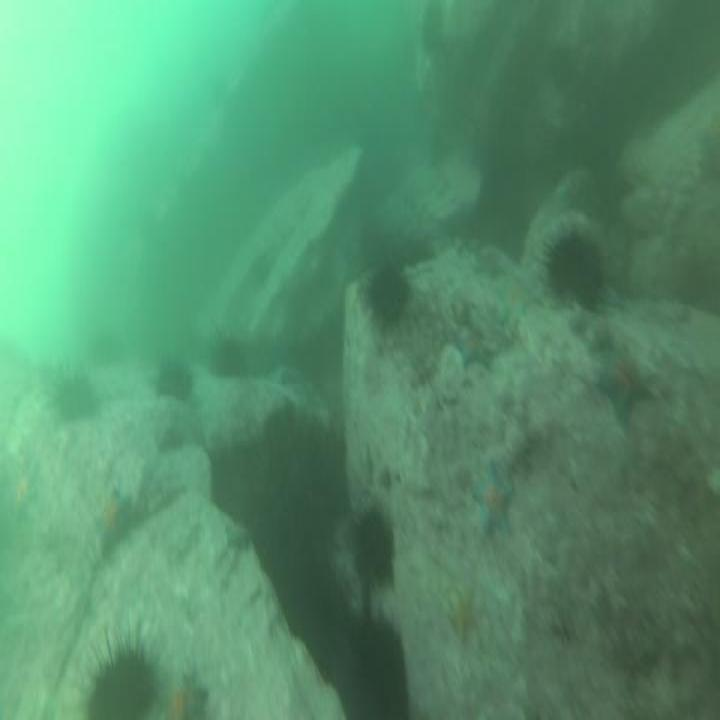echinus: (75, 620, 165, 720), (285, 560, 352, 684), (337, 608, 411, 720), (540, 224, 609, 313), (347, 505, 402, 595), (360, 260, 416, 336), (48, 370, 106, 428), (207, 327, 250, 381), (153, 356, 195, 400), (88, 327, 125, 370), (547, 41, 577, 94), (418, 0, 444, 60)
starfish: (598, 338, 655, 428), (471, 458, 517, 546), (93, 485, 136, 567), (445, 585, 489, 654), (162, 666, 215, 720), (6, 457, 43, 524), (452, 327, 502, 373), (499, 277, 535, 322), (470, 247, 510, 283), (223, 517, 255, 555)
